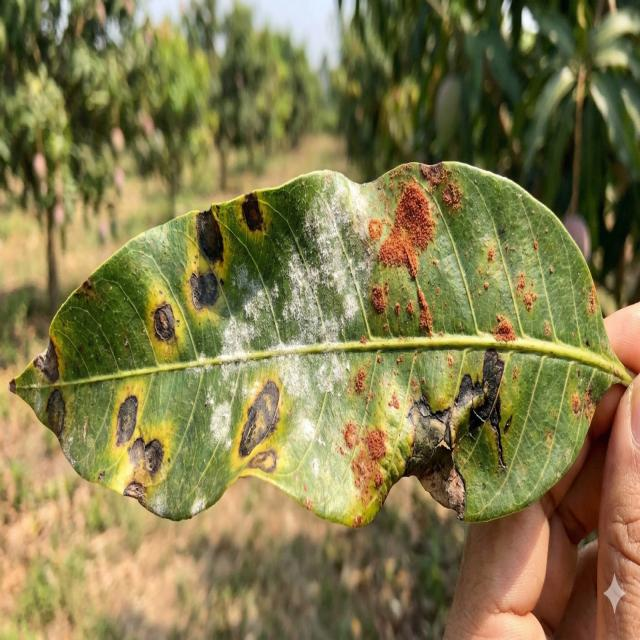Anthracnose: (119, 401, 158, 501), (243, 376, 276, 472), (425, 428, 466, 498), (42, 348, 61, 376), (50, 392, 62, 432)
Powdery Mildew: (310, 176, 362, 373), (220, 334, 314, 361), (287, 361, 316, 447), (214, 404, 232, 446)
black die: (192, 274, 224, 313), (197, 212, 222, 260), (487, 351, 502, 423), (243, 197, 266, 237), (155, 308, 171, 344)
